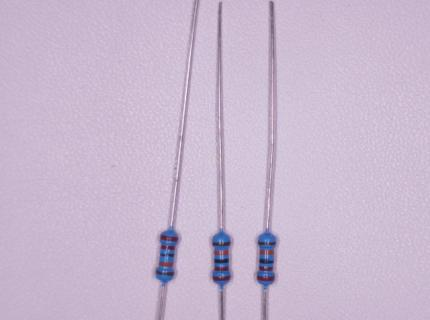Black band: (259, 258, 274, 264), (160, 252, 175, 257), (214, 259, 229, 263)
Brown band: (156, 270, 174, 276), (212, 241, 231, 246), (258, 241, 276, 245)
Orange band: (259, 249, 274, 255), (159, 261, 173, 267), (214, 250, 229, 255)
Red band: (160, 234, 178, 241), (257, 275, 275, 281), (212, 275, 230, 281), (160, 244, 175, 250), (214, 266, 229, 271), (259, 266, 273, 271)
